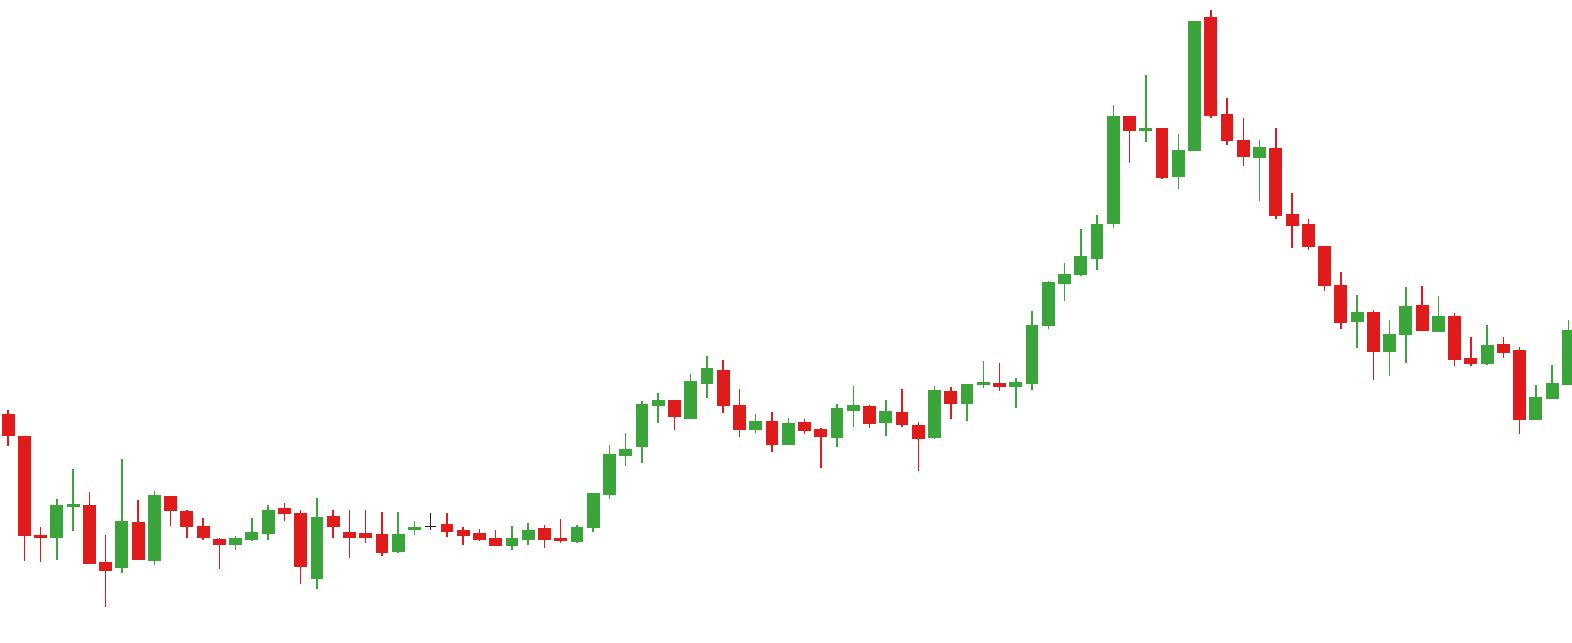buy: (813, 413, 924, 473)
